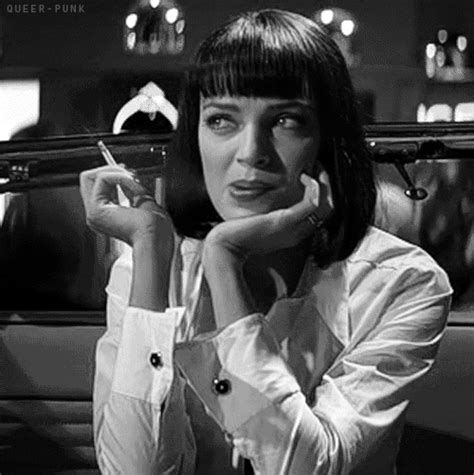cigarette: (97, 141, 123, 171)
